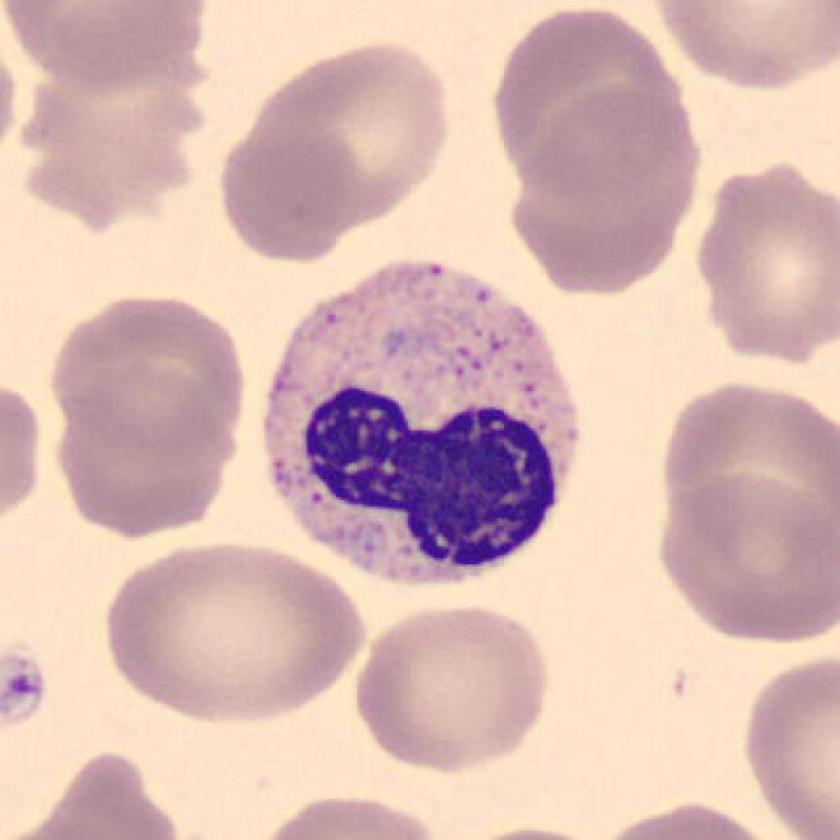neutrophil: (266, 262, 580, 581)
